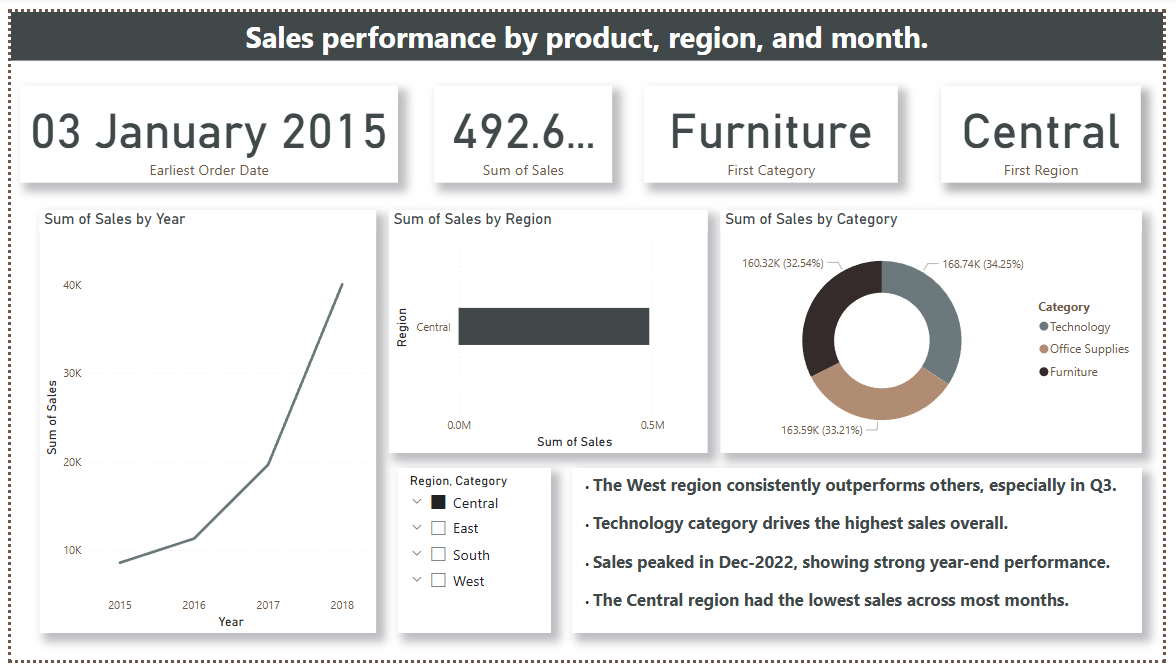

This screenshot's page, from the dashboard's own definition file:
{"tool":"powerbi","page":{"name":"Page 1","canvas":[1280,720],"ordinal":0},"visuals":[{"type":"lineChart","fields":{"Category":["train.Order Date.Variation.Date Hierarchy.Year","train.Order Date.Variation.Date Hierarchy.Quarter","train.Order Date.Variation.Date Hierarchy.Month","train.Order Date.Variation.Date Hierarchy.Day"],"Y":["Sum(train.Sales)"]},"box":[32,220,374,470],"z":0},{"type":"textbox","box":[0,0,1280,54],"z":1000},{"type":"card","fields":{"Values":["Sum(train.Sales)"]},"box":[470,82,198,108],"z":2000},{"type":"card","fields":{"Values":["Min(train.Order Date)"]},"box":[10,82,420,108],"z":3000},{"type":"card","fields":{"Values":["Min(train.Category)"]},"box":[704,82,282,108],"z":4000},{"type":"card","fields":{"Values":["Min(train.Region)"]},"box":[1034,82,222,108],"z":5000},{"type":"barChart","fields":{"Category":["train.Region"],"Y":["Sum(train.Sales)"]},"box":[420,220,354,270],"z":5001},{"type":"donutChart","fields":{"Category":["train.Category"],"Y":["Sum(train.Sales)"]},"box":[788,220,468,270],"z":5002},{"type":"slicer","fields":{"Values":["train.Region","train.Category"]},"box":[430,506.7,170,183.3],"z":5003},{"type":"textbox","box":[623.3,506.7,633.3,183.3],"z":5005}]}

Visuals, with their boxes in screenshot pixels (x1, y1, x2, y2), scaled from the page's 1280x720 canvas onto the 1176x666 screenshot:
lineChart - train.Order Date.Variation.Date Hierarchy.Year x train.Order Date.Variation.Date Hierarchy.Quarter: [x1=29, y1=204, x2=373, y2=638]
textbox: [x1=0, y1=0, x2=1175, y2=50]
card - Sum(train.Sales): [x1=432, y1=76, x2=614, y2=176]
card - Min(train.Order Date): [x1=9, y1=76, x2=395, y2=176]
card - Min(train.Category): [x1=647, y1=76, x2=906, y2=176]
card - Min(train.Region): [x1=950, y1=76, x2=1154, y2=176]
barChart - train.Region x Sum(train.Sales): [x1=386, y1=204, x2=711, y2=453]
donutChart - train.Category x Sum(train.Sales): [x1=724, y1=204, x2=1154, y2=453]
slicer - train.Region x train.Category: [x1=395, y1=469, x2=551, y2=638]
textbox: [x1=573, y1=469, x2=1155, y2=638]
